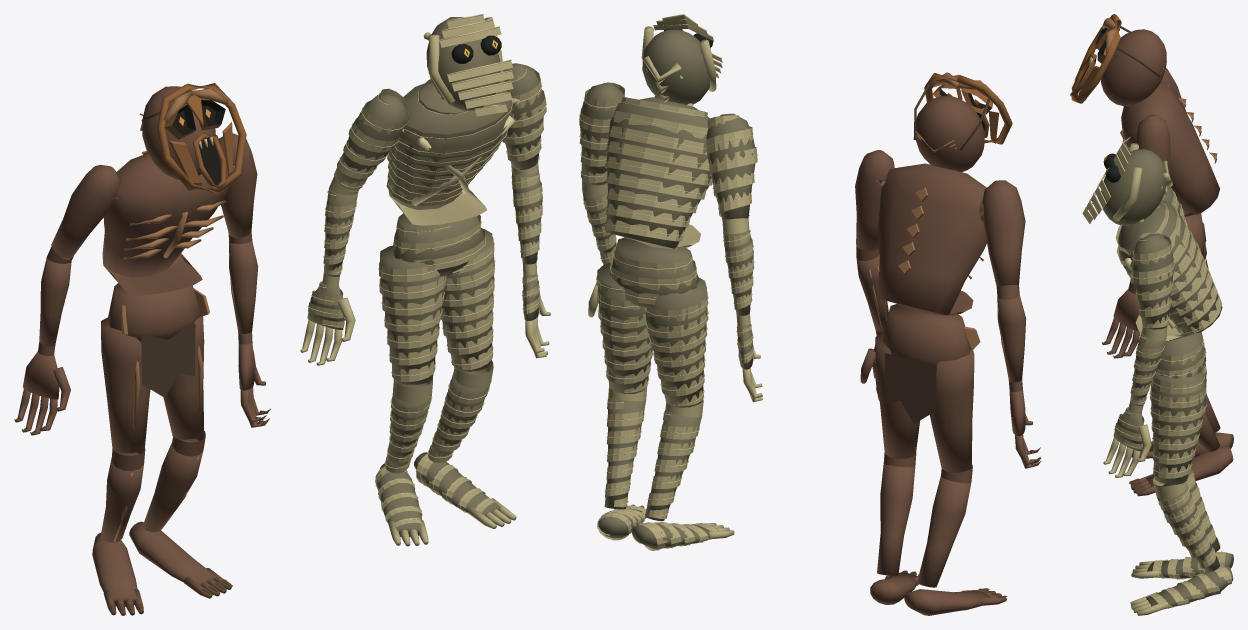
Rendered from redeads.glb.
3 views of the same model, side by side, from view 1: azimuth 30°, elevation 25°; view 2: azimuth 150°, elevation 25°; view 3: azimuth 270°, elevation 25° (orthographic). The views are drawn at different scales.
Visible parts, largest first — view 1: Redead.0.14.tapered hunched torso, Redead.1.14.tapered hunched torso, Redead.1.14.overlapping spiral linen, Redead.1.08.overlapping spiral linen, Redead.0.08.lean thigh, Redead.1.03.overlapping spiral linen, Redead.0.25.continuous pelvis, Redead.0.20.upper arm, Redead.0.25.torn burial loincloth.001, Redead.1.08.lean thigh, Redead.0.04.tapered shin, Redead.0.03.lean thigh (+36 smaller); view 2: Redead.0.14.tapered hunched torso, Redead.1.14.overlapping spiral linen, Redead.1.14.tapered hunched torso, Redead.0.08.lean thigh, Redead.0.24.tapered cranium, Redead.0.25.continuous pelvis, Redead.1.24.tapered cranium, Redead.1.08.overlapping spiral linen, Redead.0.20.upper arm, Redead.1.03.overlapping spiral linen, Redead.0.09.tapered shin, Redead.0.04.tapered shin (+29 smaller); view 3: Redead.0.14.tapered hunched torso, Redead.0.24.tapered cranium, Redead.1.03.overlapping spiral linen, Redead.1.14.overlapping spiral linen, Redead.1.14.tapered hunched torso, Redead.1.24.tapered cranium, Redead.1.03.lean thigh, Redead.1.16.overlapping spiral linen, Redead.1.16.upper arm, Redead.1.04.overlapping spiral linen, Redead.0.16.upper arm, Redead.1.25.continuous pelvis (+29 smaller).
Boxes of the visible parts, left/top/right/bottom form: Redead.0.14.tapered hunched torso: left=102, top=153, right=229, bottom=277; Redead.1.14.tapered hunched torso: left=388, top=82, right=512, bottom=209; Redead.1.14.overlapping spiral linen: left=386, top=79, right=515, bottom=207; Redead.1.08.overlapping spiral linen: left=379, top=262, right=445, bottom=382; Redead.0.08.lean thigh: left=101, top=317, right=150, bottom=452; Redead.1.03.overlapping spiral linen: left=441, top=237, right=494, bottom=369; Redead.0.25.continuous pelvis: left=107, top=283, right=200, bottom=342; Redead.0.20.upper arm: left=51, top=165, right=120, bottom=258; Redead.0.25.torn burial loincloth.001: left=141, top=323, right=195, bottom=397; Redead.1.08.lean thigh: left=380, top=245, right=445, bottom=384; Redead.0.04.tapered shin: left=143, top=438, right=203, bottom=532; Redead.0.03.lean thigh: left=163, top=316, right=204, bottom=439; Redead.0.14.tapered hunched torso: left=877, top=163, right=986, bottom=315; Redead.1.14.overlapping spiral linen: left=604, top=97, right=712, bottom=241; Redead.1.14.tapered hunched torso: left=605, top=97, right=711, bottom=248; Redead.0.08.lean thigh: left=929, top=348, right=974, bottom=472; Redead.0.24.tapered cranium: left=915, top=96, right=984, bottom=171; Redead.0.25.continuous pelvis: left=882, top=304, right=971, bottom=365; Redead.1.24.tapered cranium: left=642, top=29, right=709, bottom=104; Redead.1.08.overlapping spiral linen: left=645, top=291, right=708, bottom=406; Redead.0.20.upper arm: left=982, top=180, right=1025, bottom=286; Redead.1.03.overlapping spiral linen: left=596, top=274, right=652, bottom=392; Redead.0.09.tapered shin: left=917, top=476, right=971, bottom=587; Redead.0.04.tapered shin: left=877, top=463, right=915, bottom=575; Redead.0.14.tapered hunched torso: left=1121, top=81, right=1219, bottom=214; Redead.0.24.tapered cranium: left=1101, top=29, right=1166, bottom=106; Redead.1.03.overlapping spiral linen: left=1150, top=374, right=1206, bottom=478; Redead.1.14.overlapping spiral linen: left=1115, top=200, right=1222, bottom=334; Redead.1.14.tapered hunched torso: left=1118, top=201, right=1222, bottom=334; Redead.1.24.tapered cranium: left=1101, top=149, right=1166, bottom=225; Redead.1.03.lean thigh: left=1151, top=370, right=1206, bottom=484; Redead.1.16.overlapping spiral linen: left=1131, top=232, right=1174, bottom=327; Redead.1.16.upper arm: left=1132, top=234, right=1173, bottom=329; Redead.1.04.overlapping spiral linen: left=1158, top=488, right=1218, bottom=568; Redead.0.16.upper arm: left=1135, top=114, right=1170, bottom=170; Redead.1.25.continuous pelvis: left=1156, top=332, right=1205, bottom=378.
Size of the model in its own units: 74.48 by 74.4 by 24.32.
